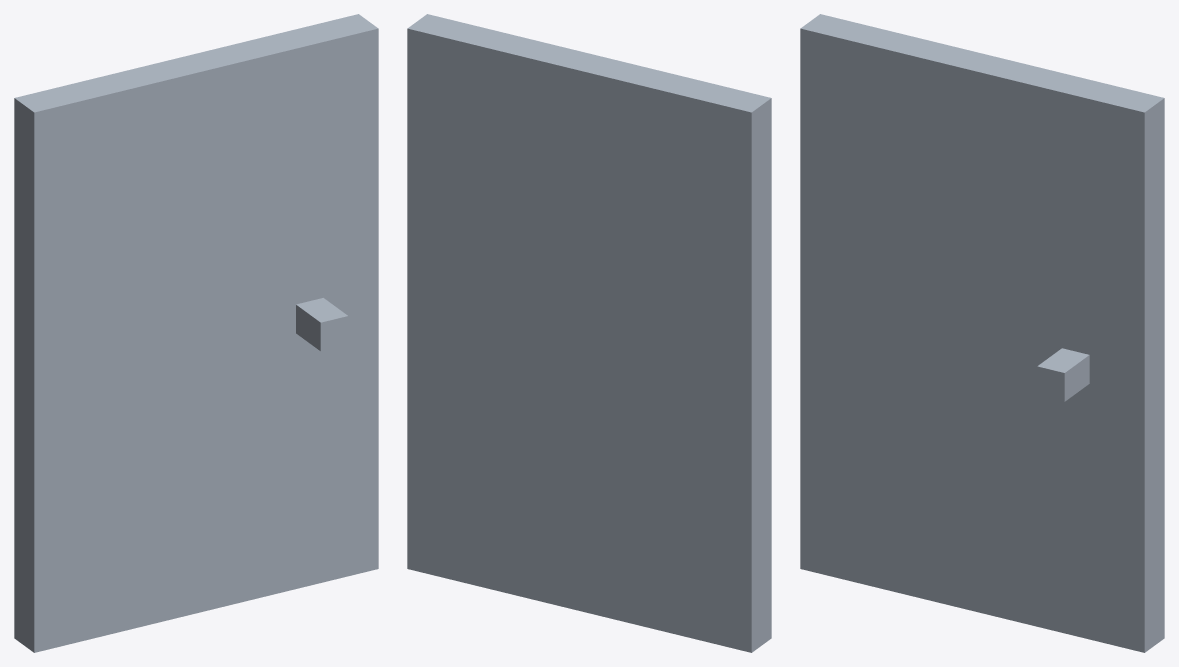
File: hinged-door.glb
3 renders of one model, left to right at view 1: azimuth 30°, elevation 25°; view 2: azimuth 150°, elevation 25°; view 3: azimuth 330°, elevation 25°, orthographic.
Visible parts, largest first — view 1: Door, Handle; view 2: Door; view 3: Door, Handle.
Boxes of the visible parts, box(x1,y1,x2,y2) form: Door: box(14, 14, 378, 652); Handle: box(296, 298, 348, 351); Door: box(407, 14, 771, 652); Door: box(800, 14, 1164, 652); Handle: box(1037, 348, 1089, 401).
Size of the model in its own units: 0.02 by 0.03 by 0.0045.
1 material, 1 textured.
